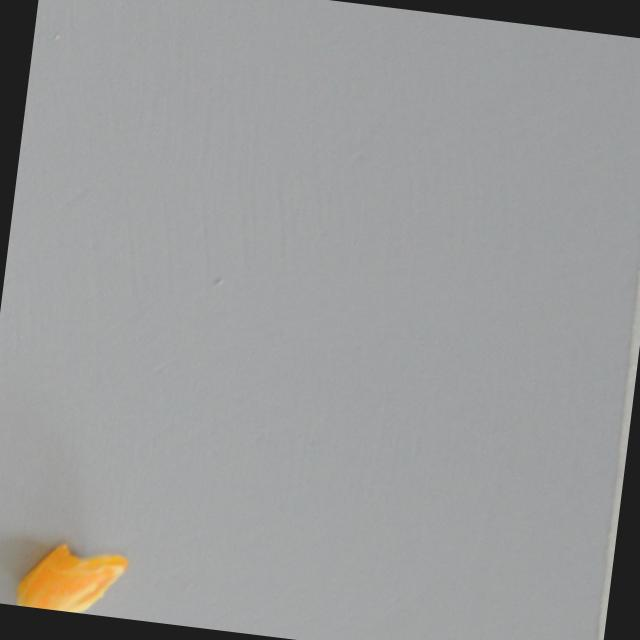dañado: (9, 529, 133, 618)
